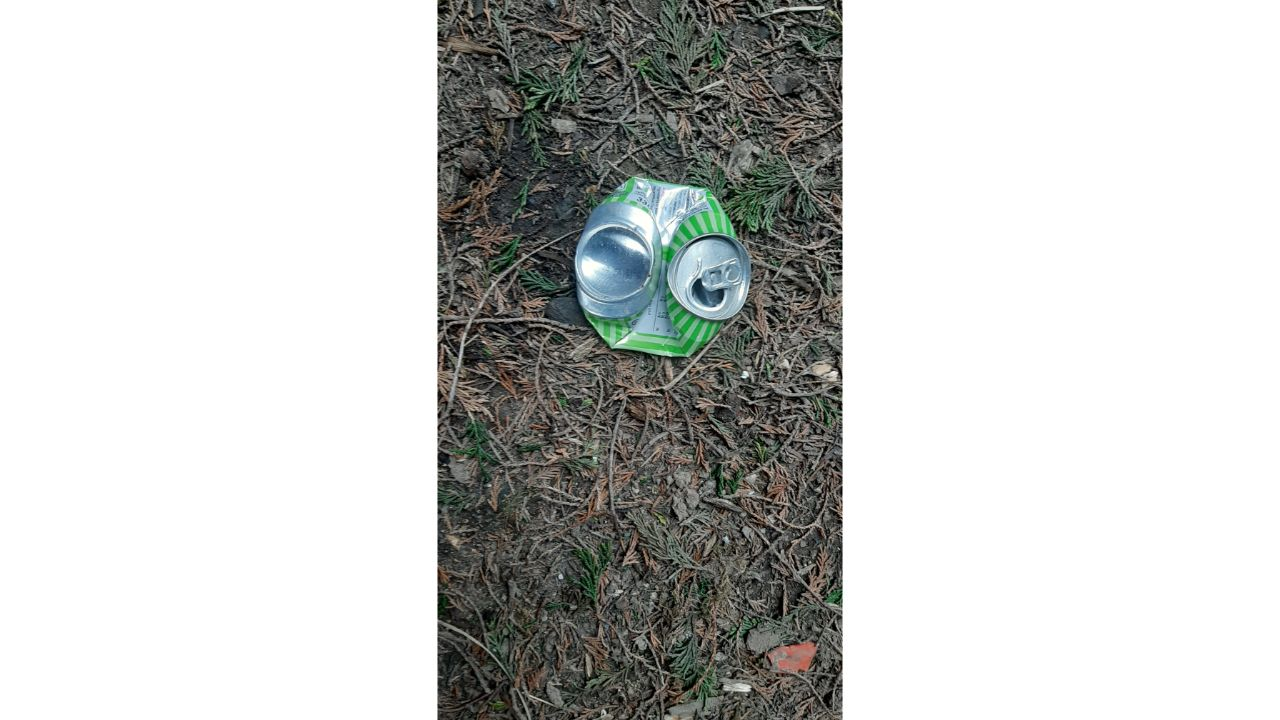Can: (571, 172, 751, 375)
